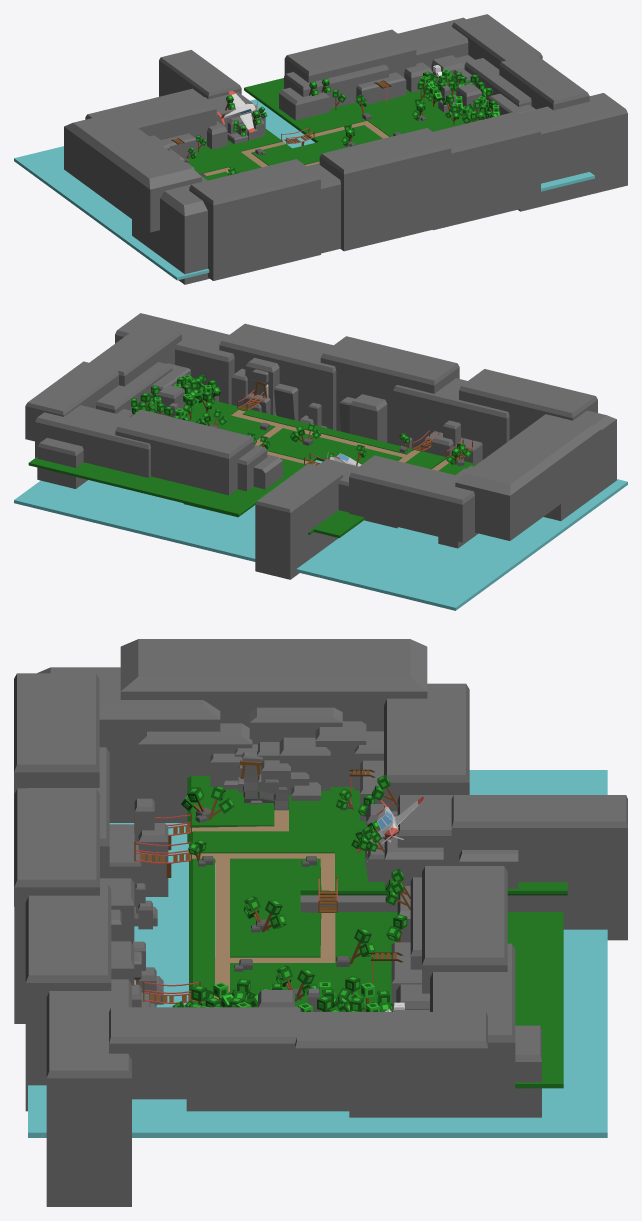
File: DschungelWeg.fbx
The picture shows the model from 3 angles, top to bottom: view 1: azimuth 30°, elevation 25°; view 2: azimuth 150°, elevation 25°; view 3: azimuth 270°, elevation 25°; orthographic projection. The views are drawn at different scales.
Parts seen in each view (by area): view 1: Cube.068, Cube.018, Cube.091, Cube.060, Cube.152, Cube.169, Cube.070, Cube.063, Cube.146, Cube.065, Cube.168, Cube.150 (+15 smaller); view 2: Cube.070, Cube.091, Cube.060, Cube.065, Cube.150, Cube.146, Cube.068, Cube.152, Cube.067, Cube.018, Cube.164, Cube.169 (+15 smaller); view 3: Cube.091, Cube.070, Cube.060, Cube.169, Cube.166, Cube.150, Cube.168, Cube.068, Cube.152, Cube.018, Cube.063, Cube.146 (+23 smaller).
Part boxes in pixels (x1,y1,x2,y2): Cube.068: [319, 128, 451, 251]; Cube.018: [189, 159, 320, 280]; Cube.091: [187, 78, 488, 180]; Cube.060: [64, 112, 201, 232]; Cube.152: [433, 111, 540, 230]; Cube.169: [518, 93, 627, 211]; Cube.070: [14, 99, 594, 280]; Cube.063: [132, 174, 209, 284]; Cube.146: [284, 29, 416, 82]; Cube.065: [85, 88, 216, 148]; Cube.168: [499, 54, 589, 110]; Cube.150: [159, 50, 241, 99]; Cube.070: [14, 460, 627, 610]; Cube.091: [28, 401, 476, 537]; Cube.060: [455, 414, 601, 540]; Cube.065: [349, 455, 475, 542]; Cube.150: [255, 463, 342, 579]; Cube.146: [115, 409, 254, 495]; Cube.068: [320, 336, 459, 443]; Cube.152: [219, 323, 336, 430]; Cube.067: [393, 378, 509, 459]; Cube.018: [459, 369, 597, 439]; Cube.164: [35, 405, 150, 477]; Cube.169: [115, 313, 234, 404]; Cube.091: [187, 776, 567, 1088]; Cube.070: [28, 770, 607, 1137]; Cube.060: [120, 639, 427, 731]; Cube.169: [46, 979, 131, 1206]; Cube.166: [295, 1012, 487, 1103]; Cube.150: [451, 795, 627, 940]; Cube.168: [109, 1007, 301, 1099]; Cube.068: [14, 788, 99, 1023]; Cube.152: [25, 883, 111, 1111]; Cube.018: [14, 673, 99, 906]; Cube.063: [37, 667, 220, 822]; Cube.146: [422, 866, 507, 993].
Size of the model in its own units: 46060 by 10685 by 30137.
